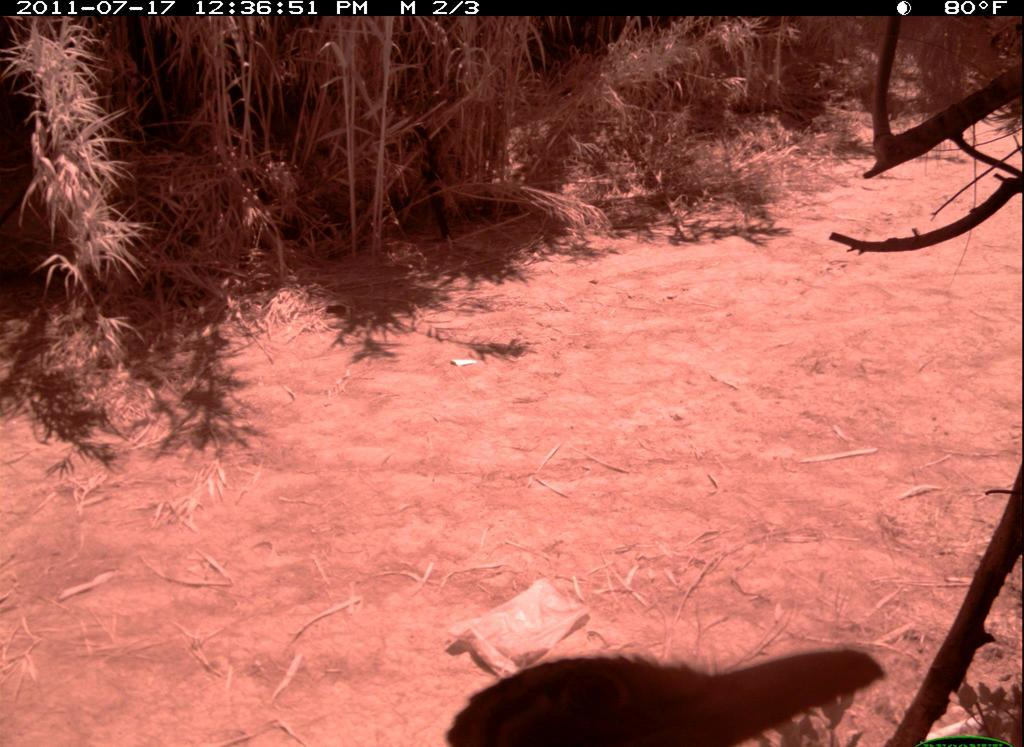bird: (423, 641, 889, 747)
